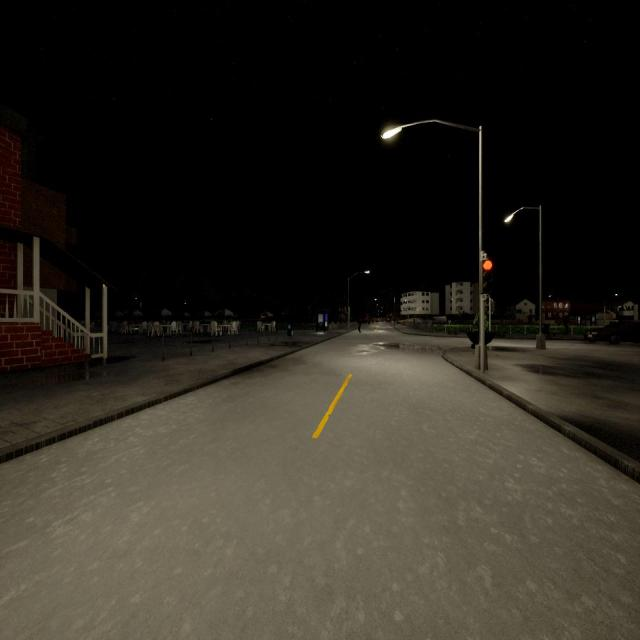Pedestrian: (358, 317, 362, 334)
Vehicle: (584, 319, 640, 346), (432, 316, 446, 325)
traffic_light: (482, 260, 494, 294), (490, 302, 496, 312), (391, 313, 392, 317)
